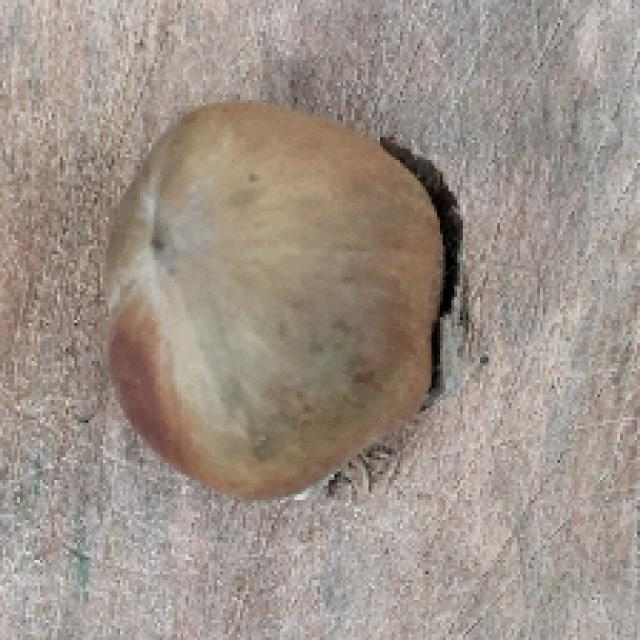DamagedHazelnut: (104, 102, 483, 505)
